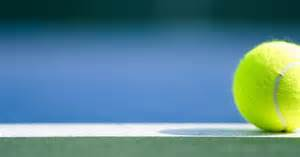tennis_ball: (231, 39, 300, 133)
